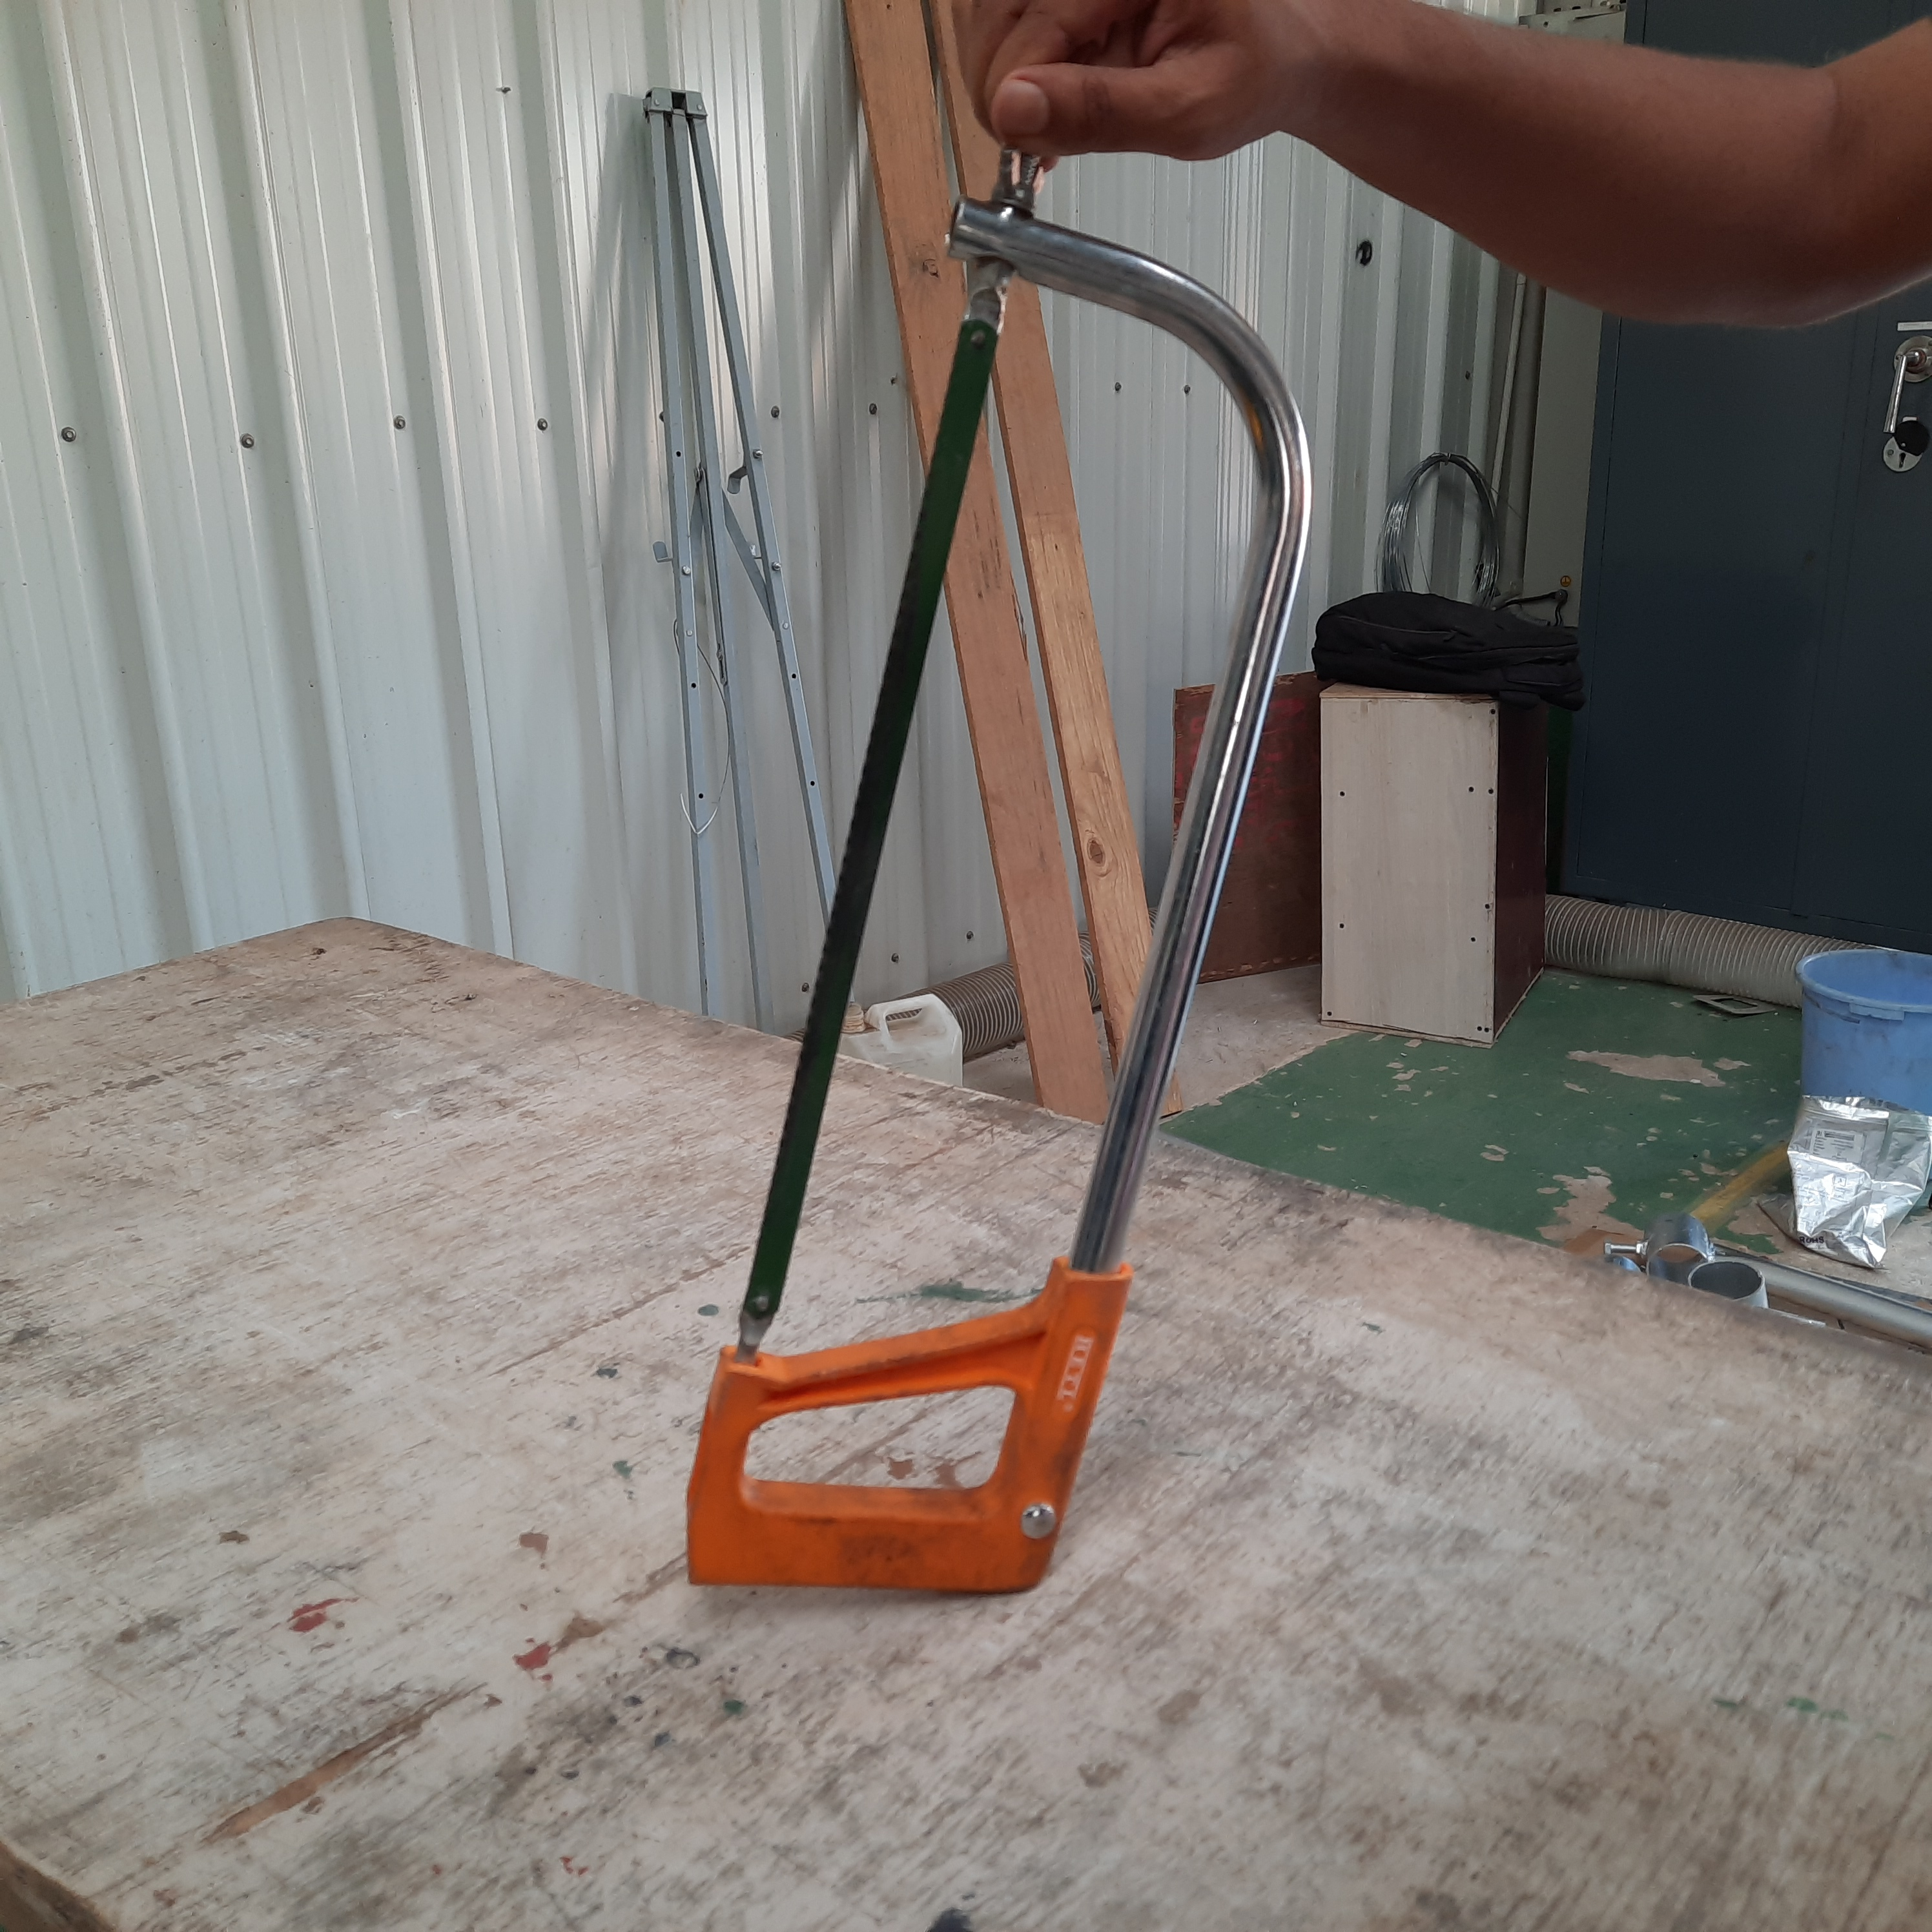Hexaframe: (681, 156, 1323, 1617)
